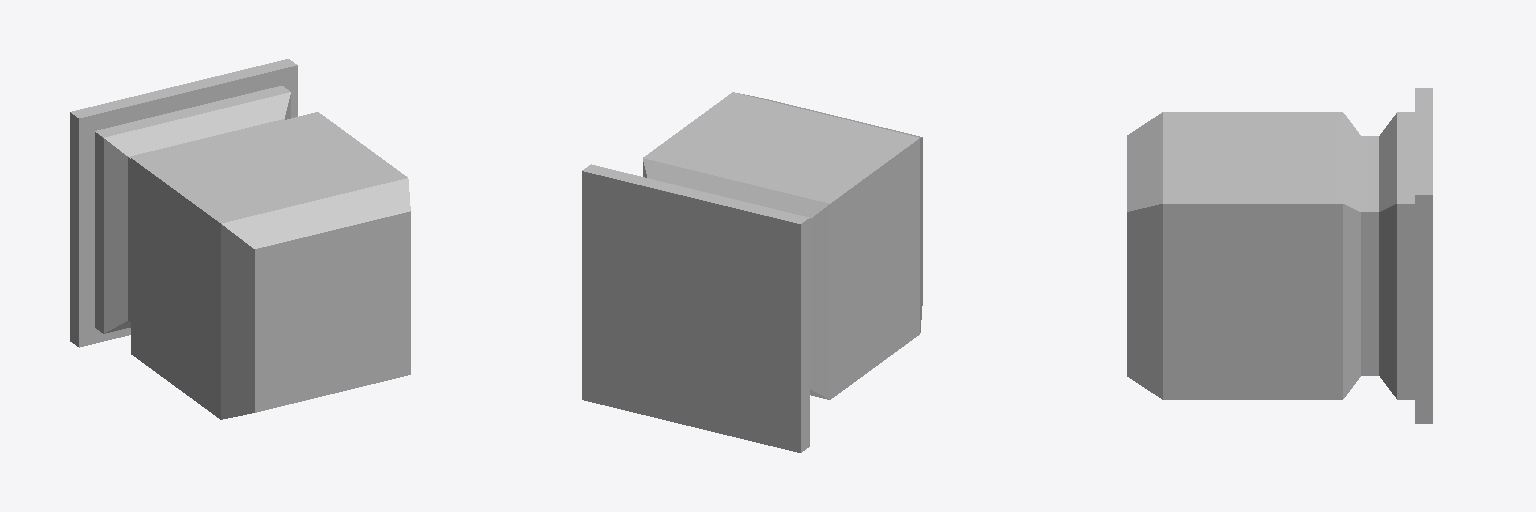
File: smg_casing.obj
The picture shows the model from 3 angles: view 1: azimuth 30°, elevation 25°; view 2: azimuth 150°, elevation 25°; view 3: azimuth 270°, elevation 25°; orthographic projection.
Parts seen in each view (by area): view 1: Cube; view 2: Cube; view 3: Cube.
Boxes of the visible parts, box(x1,y1,x2,y2) form: Cube: box(70, 59, 410, 419); Cube: box(582, 92, 922, 452); Cube: box(1127, 88, 1432, 423).
Size of the model in its own units: 0.14 by 0.14 by 0.17.